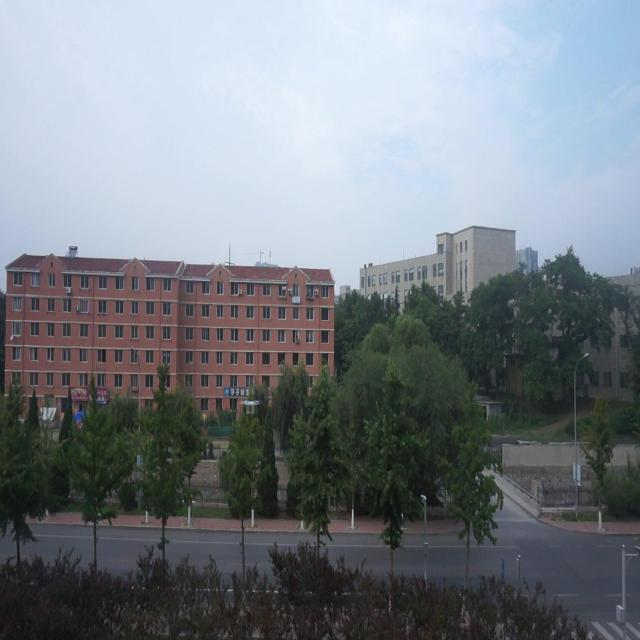drone: (239, 398, 263, 417)
